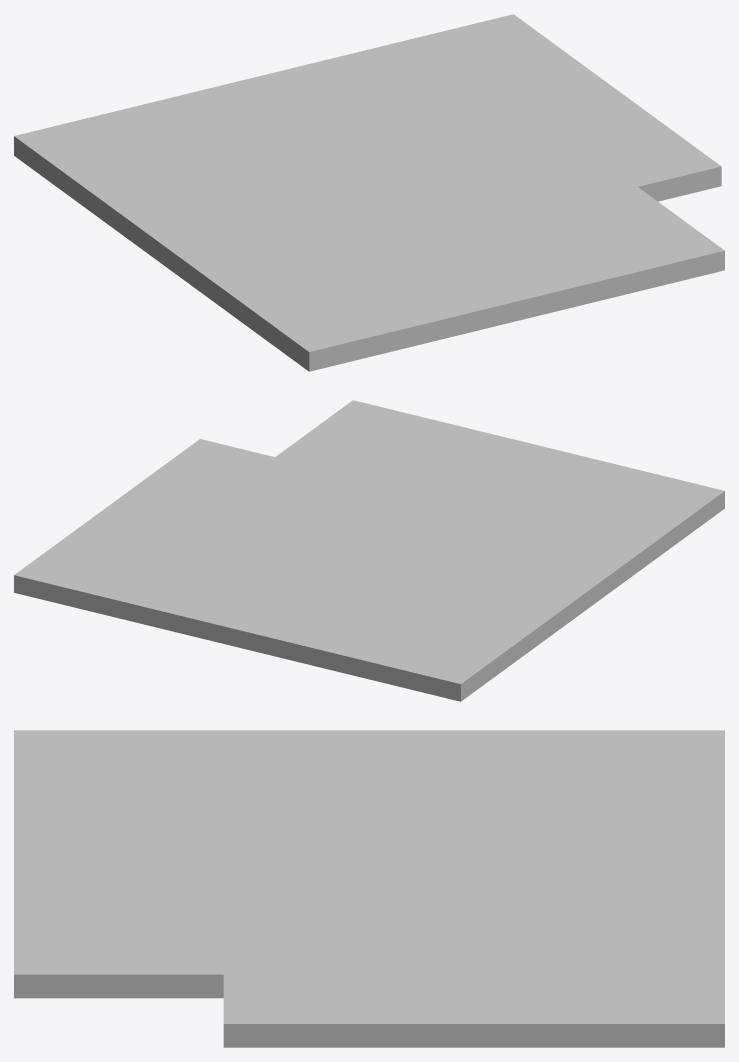
Rendered from shadow block.FBX.
The picture shows the model from 3 angles, top to bottom: view 1: azimuth 30°, elevation 25°; view 2: azimuth 150°, elevation 25°; view 3: azimuth 270°, elevation 25°; orthographic projection. The views are drawn at different scales.
Visible parts, largest first — view 1: shadow block; view 2: shadow block; view 3: shadow block.
Part boxes in pixels (<box>): shadow block: <box>14,14,724,371</box>; shadow block: <box>14,400,724,701</box>; shadow block: <box>14,730,724,1047</box>.
Bounding box in the file's own units: 1022 × 1046 × 38.42.
1 material, 1 textured.
